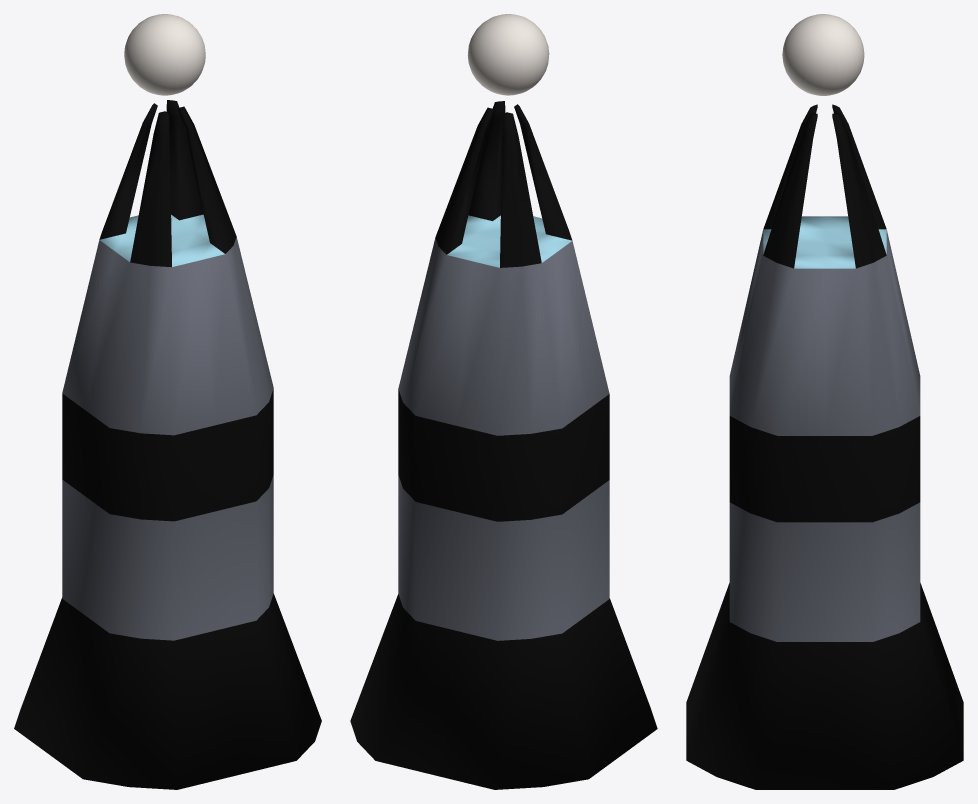
The model's file is tower2.1.fbx.
The picture shows the model from 3 angles, left to right: view 1: azimuth 30°, elevation 25°; view 2: azimuth 150°, elevation 25°; view 3: azimuth 270°, elevation 25°; orthographic projection.
Parts seen in each view (by area): view 1: Sphere; view 2: Sphere; view 3: Sphere.
Part boxes in pixels (x1,y1,x2,y2): Sphere: (14, 14, 321, 789); Sphere: (350, 14, 657, 789); Sphere: (686, 14, 963, 789).
Bounding box in the file's own units: 394 × 1117 × 394.
